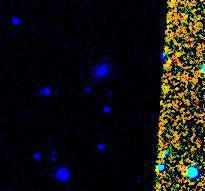star: (166, 145, 196, 175)
